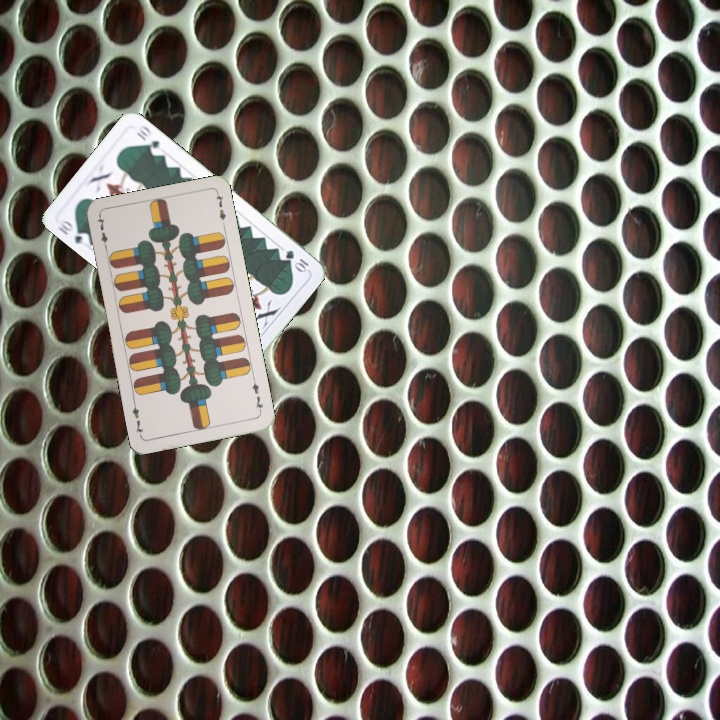E7: (248, 375, 266, 415), (93, 213, 110, 253)
G10: (53, 215, 93, 249), (281, 246, 312, 275)
